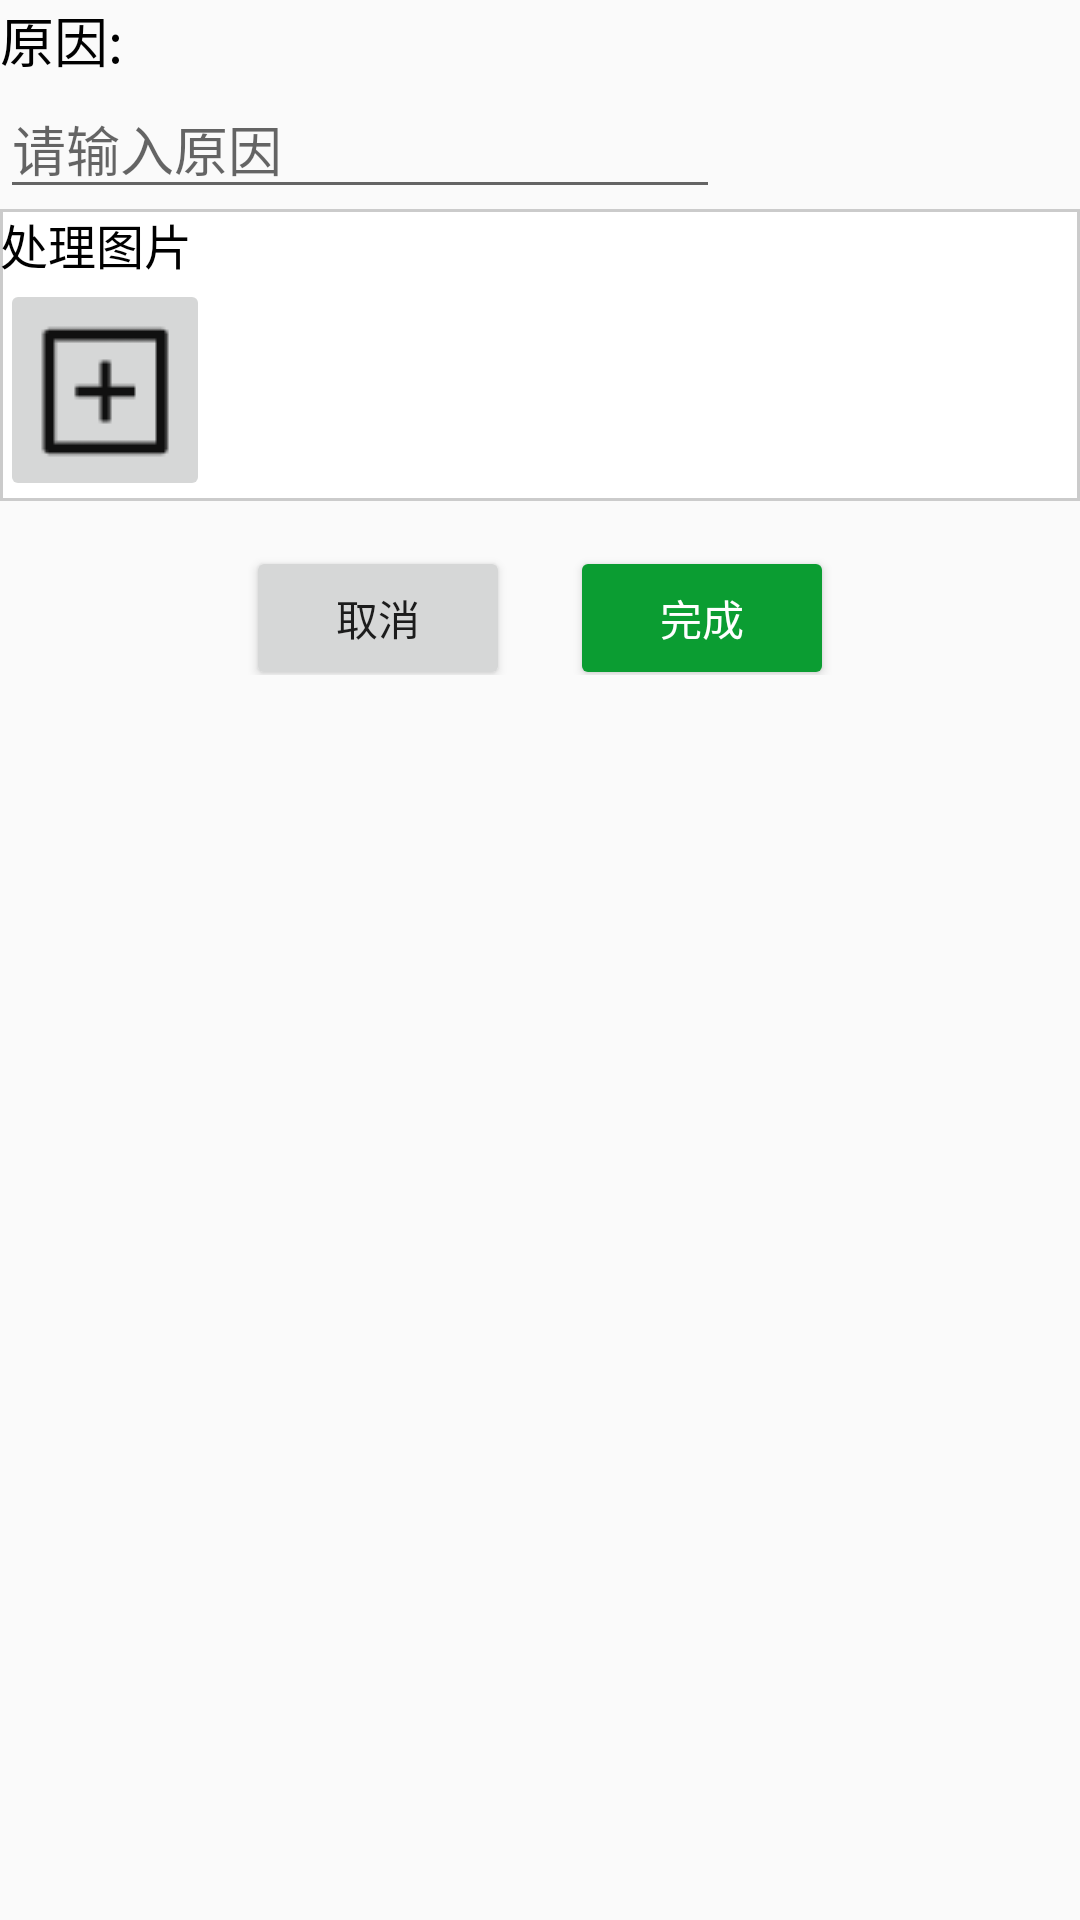

Named icons in this screenshot (1080 × 1920) and their bounding boxes, (x1, y1, x2, y2):
pic add: (12, 297, 198, 483)
